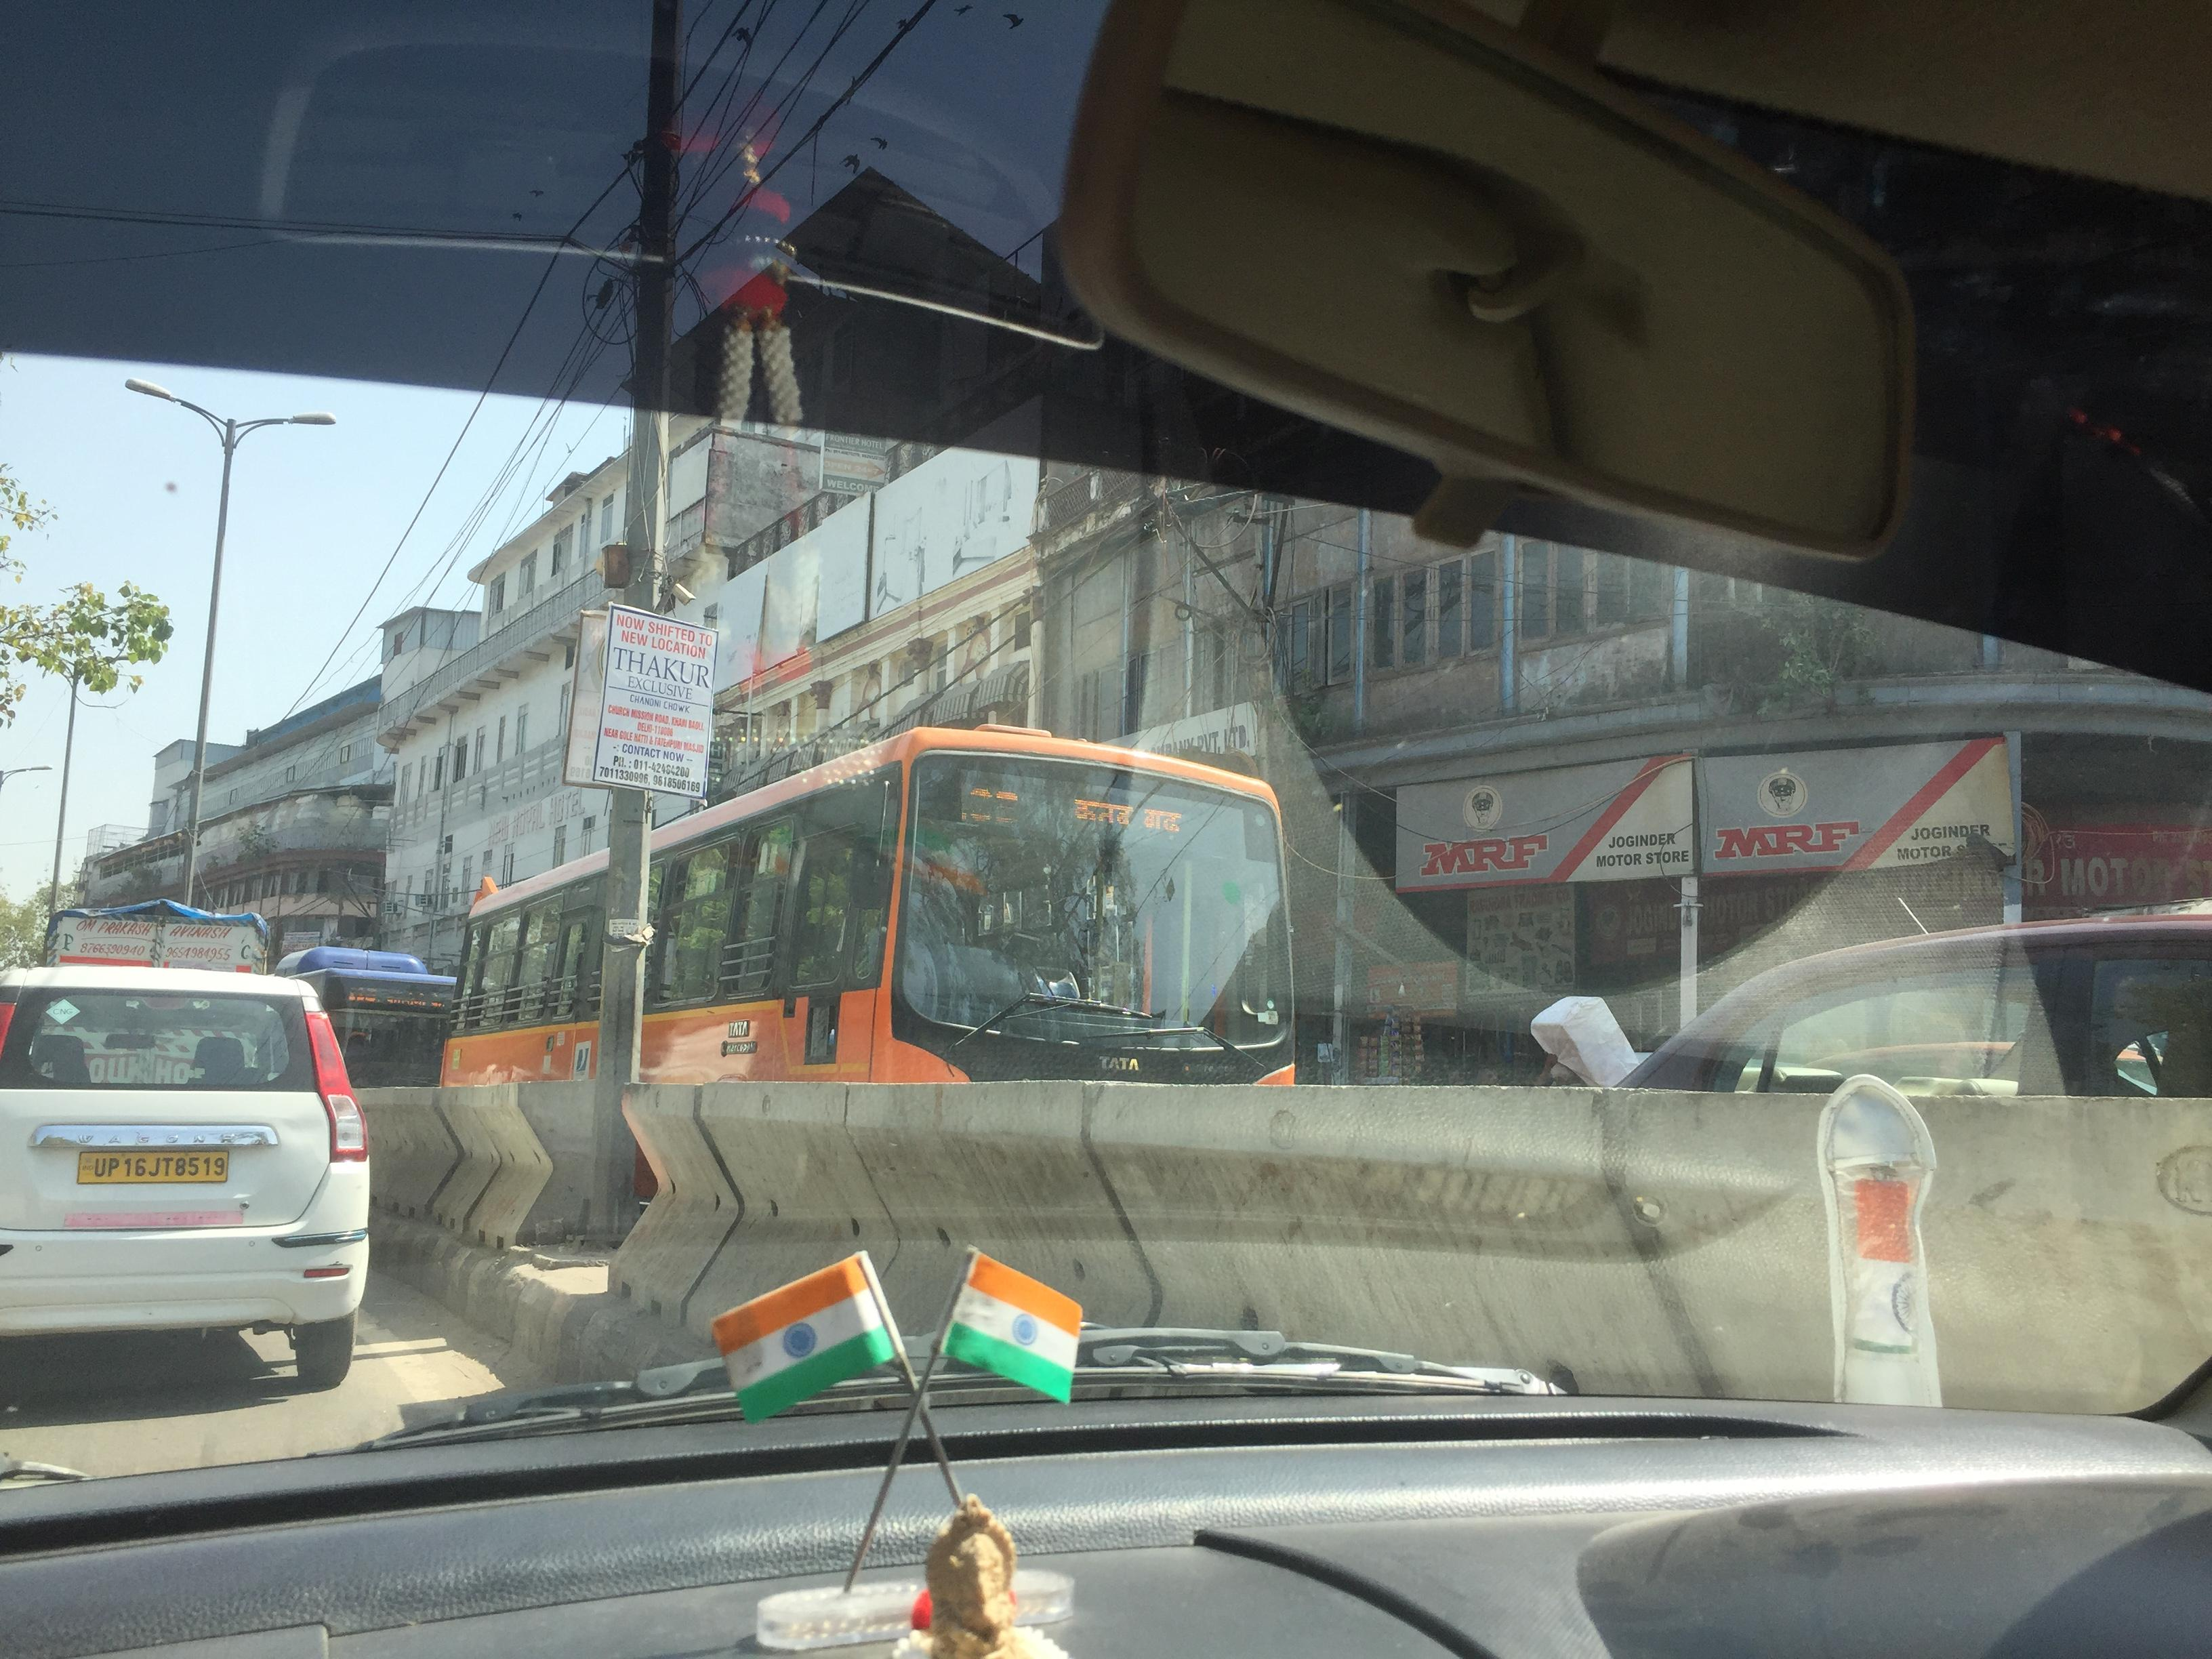Bus: (864, 711, 1338, 1180), (291, 925, 465, 1112)
Display Board: (904, 732, 1325, 861)
